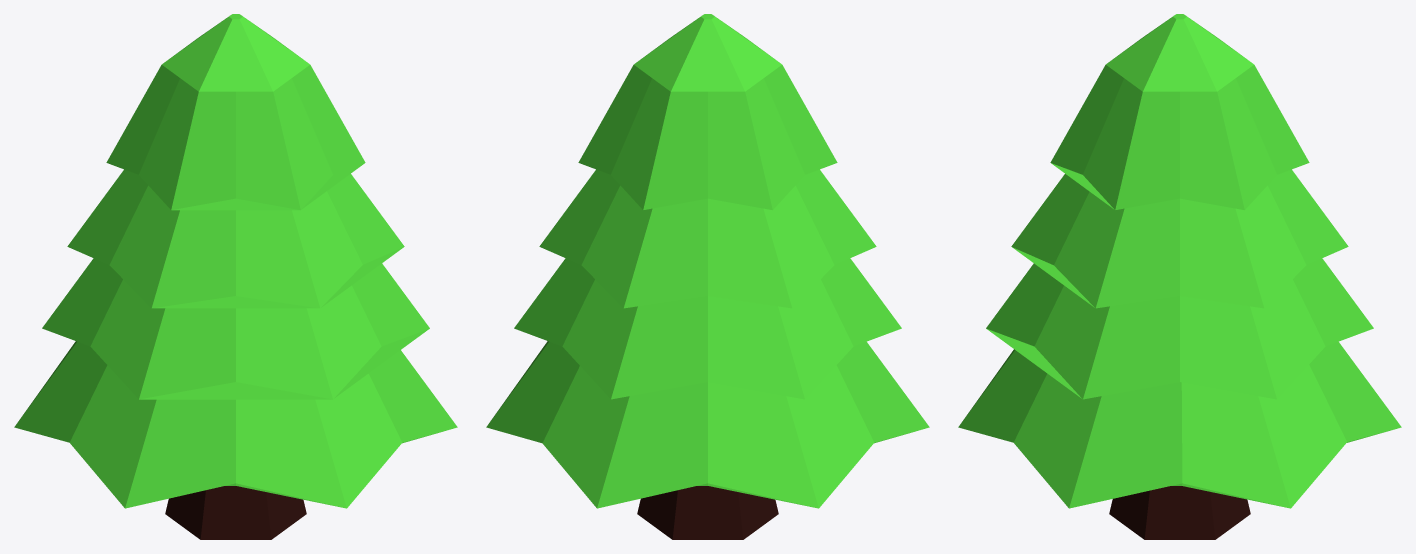
File: Iglak1.fbx
The picture shows the model from 3 angles, left to right: view 1: azimuth 30°, elevation 25°; view 2: azimuth 150°, elevation 25°; view 3: azimuth 270°, elevation 25°; orthographic projection.
Parts seen in each view (by area): view 1: Walec.004; view 2: Walec.004; view 3: Walec.004.
Part boxes in pixels (x1,y1,x2,y2): Walec.004: [14, 14, 457, 539]; Walec.004: [486, 14, 929, 539]; Walec.004: [958, 14, 1401, 539].
Size of the model in its own units: 543 by 775 by 626.
